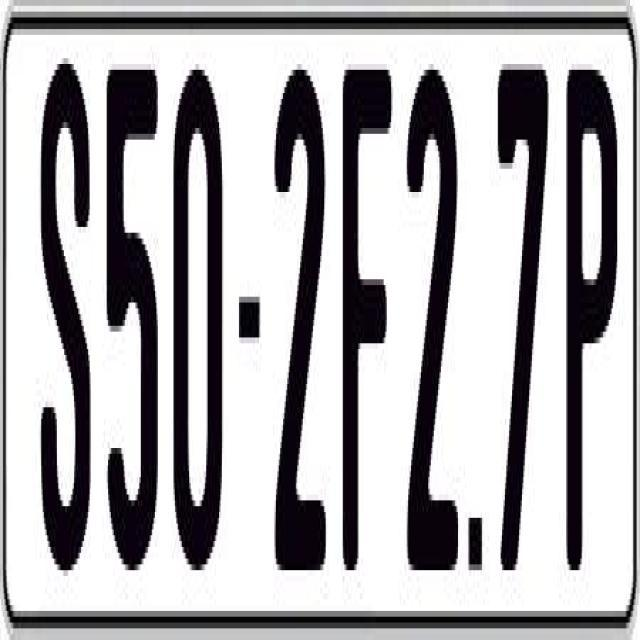0: (172, 70, 222, 594)
2: (274, 70, 333, 582), (406, 70, 462, 576)
5: (104, 52, 158, 576)
7: (495, 52, 546, 553)
F: (340, 52, 390, 582)
P: (563, 58, 619, 576)
S: (41, 58, 91, 576)
